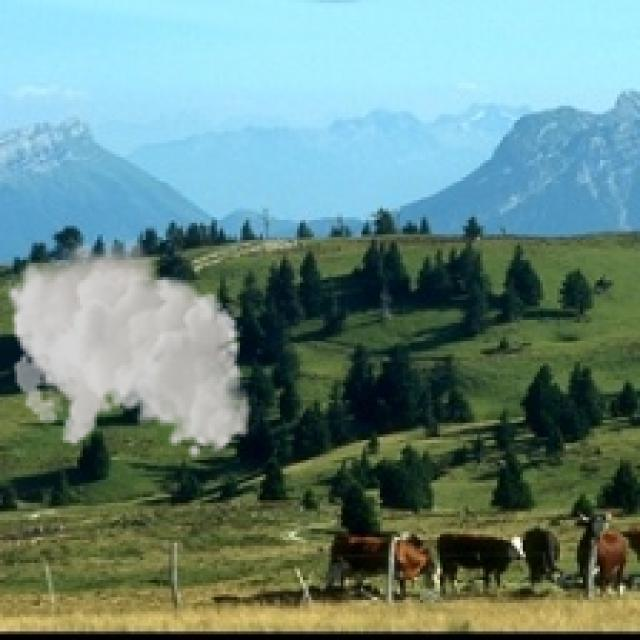smoke: (6, 231, 251, 460)
